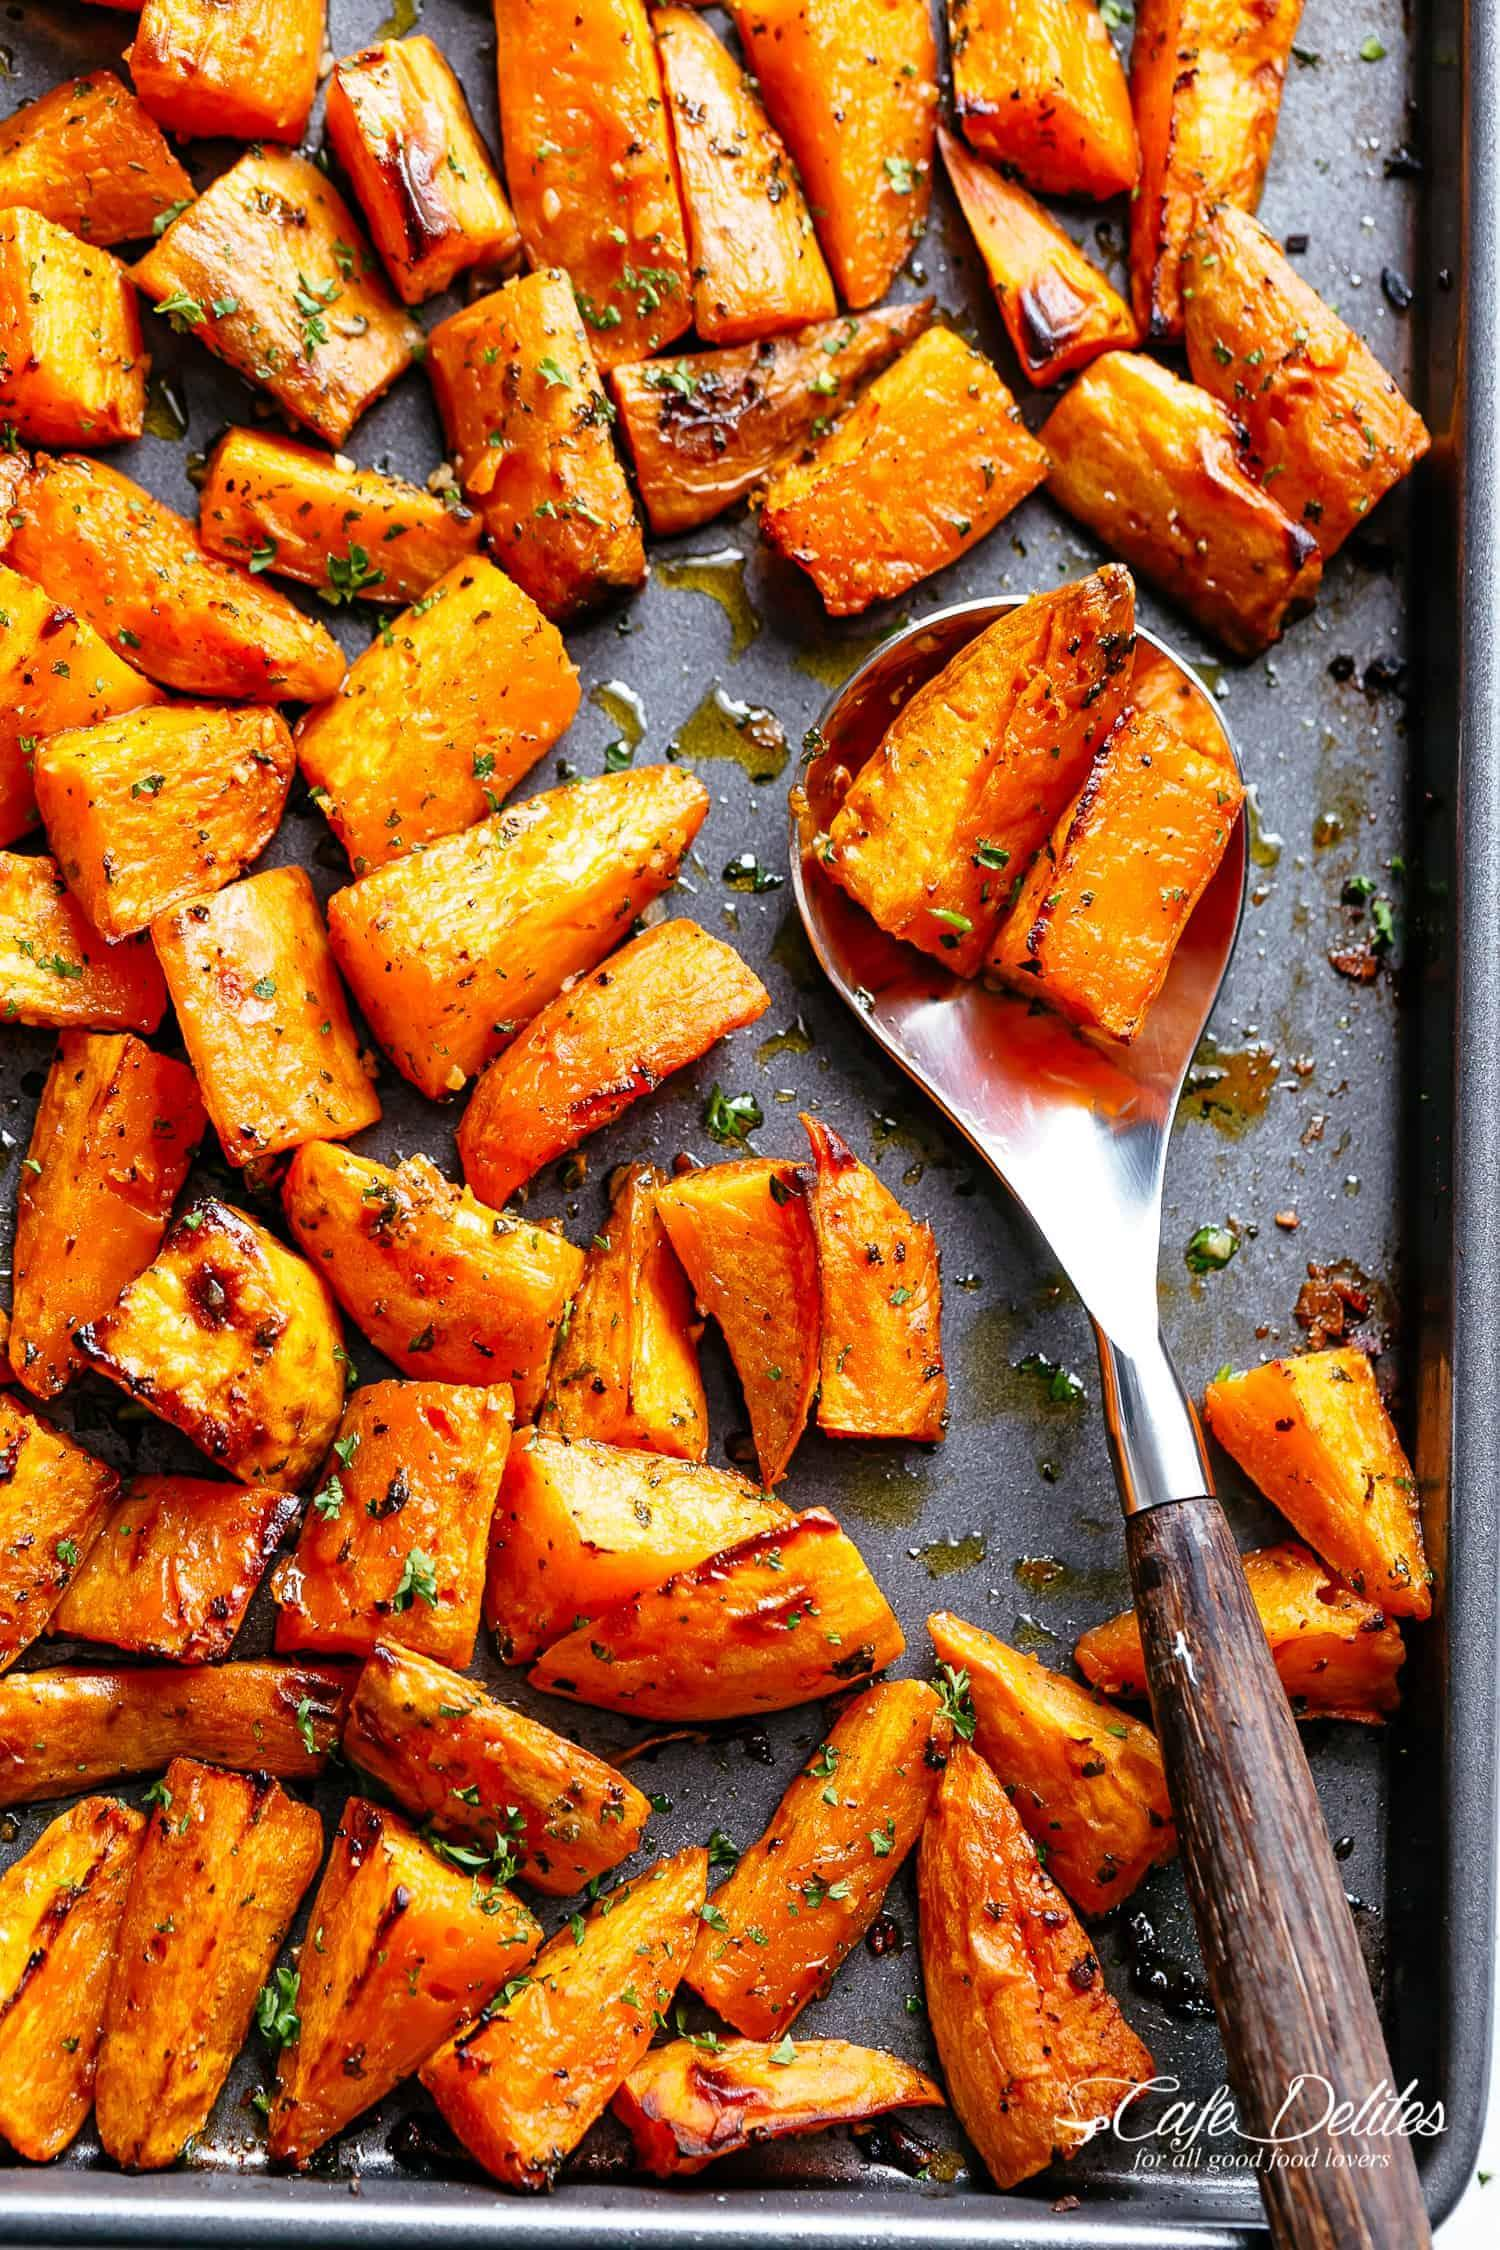sweetpotato: (3, 2, 1430, 2200), (809, 559, 1140, 981), (325, 758, 711, 1103), (912, 1734, 1158, 2190), (983, 634, 1246, 1050)
